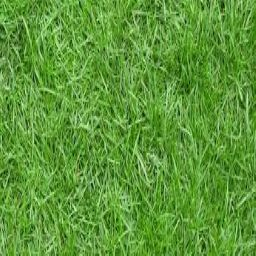grass: (4, 4, 247, 246)
